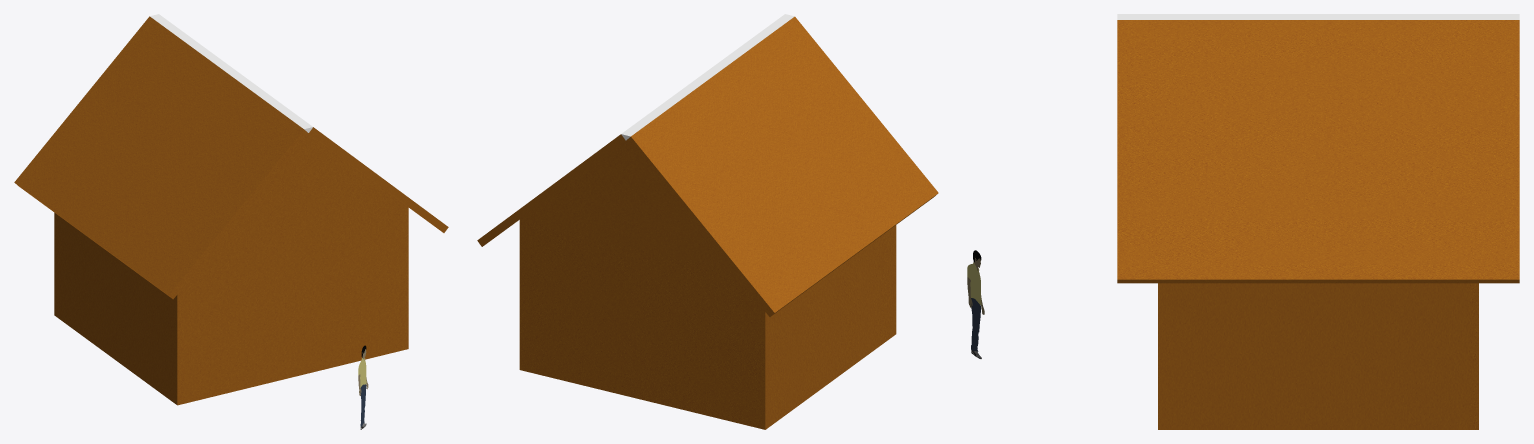
File: gingerbread_house.dae
3 views of the same model, side by side, from view 1: azimuth 30°, elevation 25°; view 2: azimuth 150°, elevation 25°; view 3: azimuth 270°, elevation 25° (orthographic). The views are drawn at different scales.
Visible parts, largest first — view 1: LeftRoof, FrontWall, LeftSide, FrontGable, Ridge, RightRoof, BackWall; view 2: LeftRoof, BackWall, LeftSide, BackGable, Ridge, RightRoof, FrontWall; view 3: RightRoof, RightSide, Ridge, FrontWall, BackWall.
Boxes of the visible parts, box(x1,y1,x2,y2) form: LeftRoof: box(14, 16, 308, 299); FrontWall: box(173, 207, 408, 405); LeftSide: box(58, 215, 173, 401); FrontGable: box(209, 133, 408, 255); Ridge: box(150, 14, 312, 132); RightRoof: box(308, 127, 448, 232); BackWall: box(54, 212, 57, 317); LeftRoof: box(626, 16, 938, 316); BackWall: box(519, 219, 769, 429); LeftSide: box(769, 228, 892, 426); BackGable: box(520, 141, 731, 271); Ridge: box(621, 14, 794, 140); RightRoof: box(477, 134, 625, 246); FrontWall: box(892, 225, 896, 336); RightRoof: box(1117, 20, 1519, 283); RightSide: box(1168, 283, 1468, 429); Ridge: box(1117, 14, 1519, 19); FrontWall: box(1158, 283, 1168, 429); BackWall: box(1469, 283, 1478, 429).
Size of what is drawn, in the model's own units: 248 by 326 by 221.
Materials: 10 (2 with a texture image).
